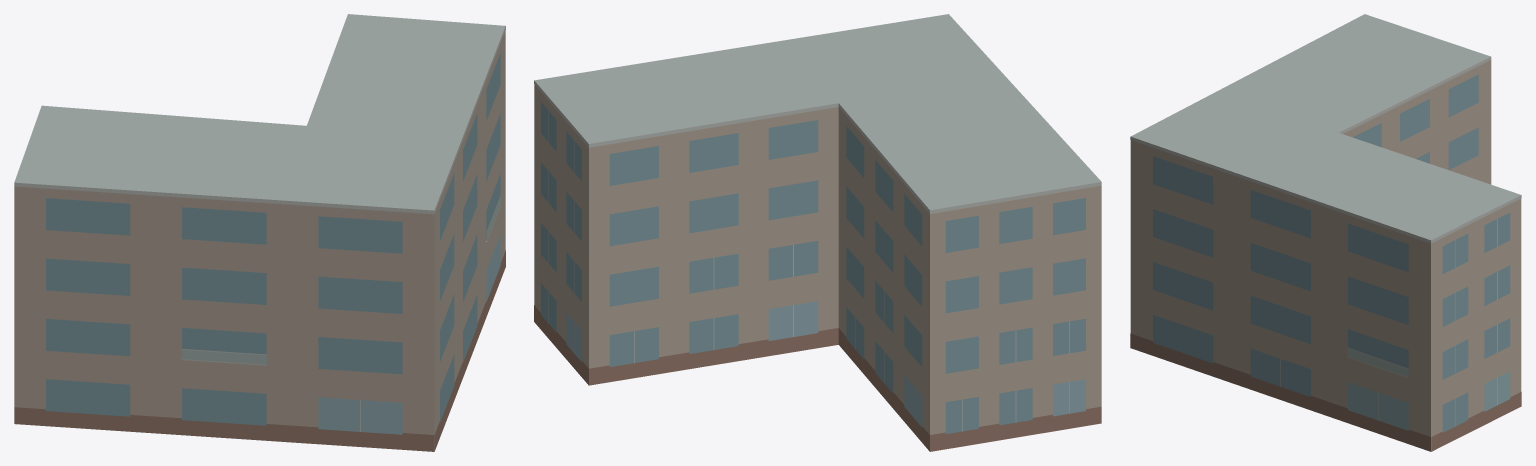
Rendered from survey-upis-32703265.glb.
3 renders of one model, left to right at view 1: azimuth 30°, elevation 25°; view 2: azimuth 150°, elevation 25°; view 3: azimuth 270°, elevation 25°, orthographic. The views are drawn at different scales.
Parts seen in each view (by area): view 1: survey-upis-32703265.tmp; view 2: survey-upis-32703265.tmp; view 3: survey-upis-32703265.tmp.
Part boxes in pixels (box(x1,y1,x2,y2)): survey-upis-32703265.tmp: box(14, 14, 505, 451); survey-upis-32703265.tmp: box(534, 14, 1101, 451); survey-upis-32703265.tmp: box(1130, 14, 1521, 451).
Size of the model in its own units: 36.23 by 15.78 by 26.44.
